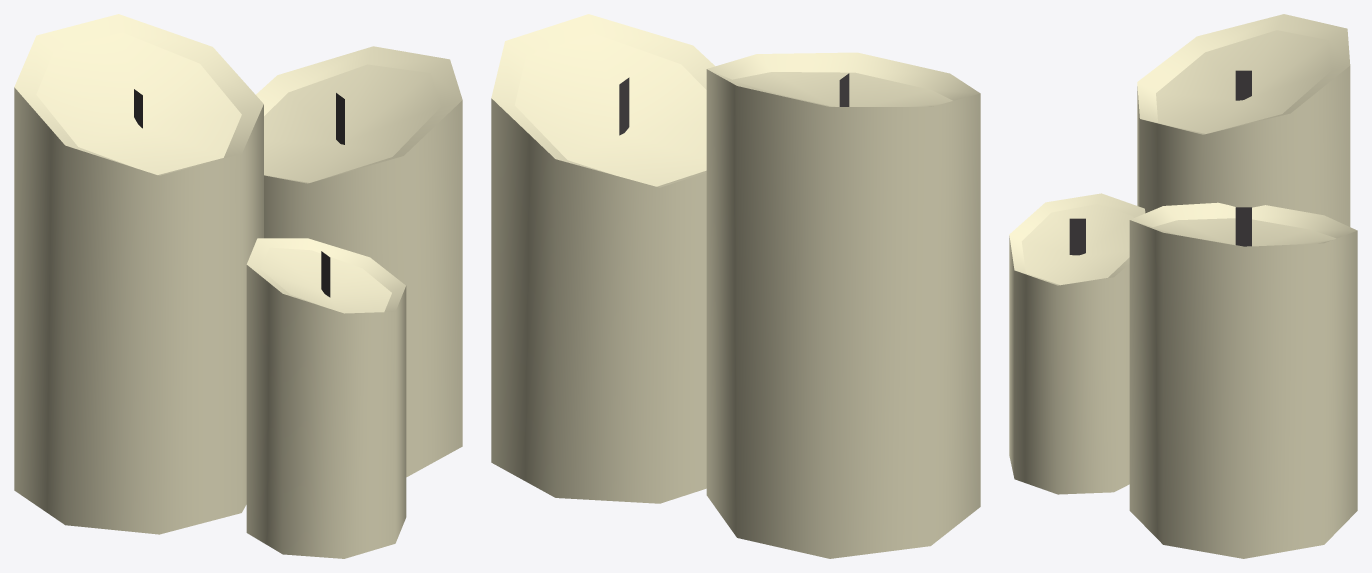
File: SM_Candle_Pack_1_01.fbx
3 views of the same model, side by side, from view 1: azimuth 30°, elevation 25°; view 2: azimuth 150°, elevation 25°; view 3: azimuth 270°, elevation 25° (orthographic). The views are drawn at different scales.
Parts seen in each view (by area): view 1: SM_Candle_Pack_1_01; view 2: SM_Candle_Pack_1_01; view 3: SM_Candle_Pack_1_01.
Part boxes in pixels (x1=…): SM_Candle_Pack_1_01: x1=14, y1=14, x2=462, y2=558; SM_Candle_Pack_1_01: x1=491, y1=14, x2=980, y2=558; SM_Candle_Pack_1_01: x1=1009, y1=14, x2=1357, y2=558.
Bounding box in the file's own units: 21.87 × 21 × 17.72.
